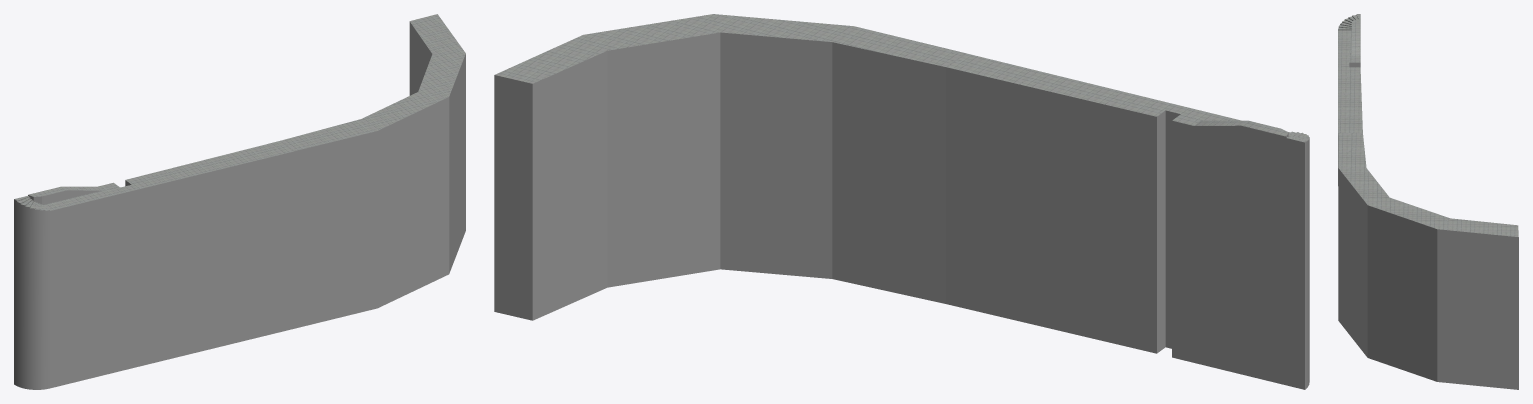
The model's file is CloudLevel_006.fbx.
The picture shows the model from 3 angles, left to right: view 1: azimuth 30°, elevation 25°; view 2: azimuth 150°, elevation 25°; view 3: azimuth 270°, elevation 25°; orthographic projection. The views are drawn at different scales.
Parts seen in each view (by area): view 1: CloudLevel1; view 2: CloudLevel1; view 3: CloudLevel1.
Part boxes in pixels (x1,y1,x2,y2): CloudLevel1: [14, 14, 465, 389]; CloudLevel1: [494, 14, 1309, 389]; CloudLevel1: [1338, 14, 1518, 389].
Size of the model in its own units: 17718 by 6121 by 6250.
